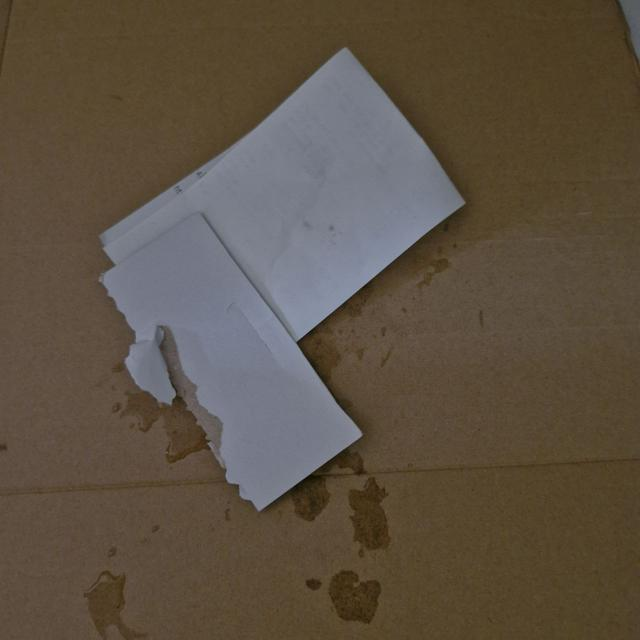paper: (115, 28, 461, 312), (95, 217, 373, 496)
